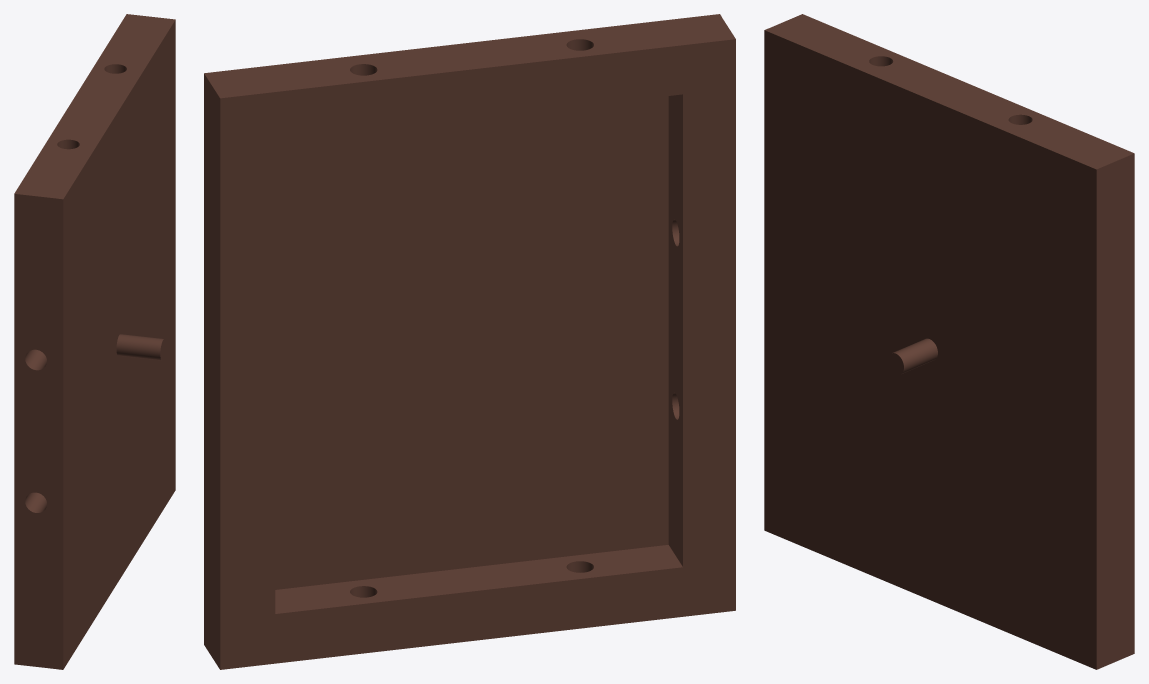
File: original-17.obj
3 views of the same model, side by side, from view 1: azimuth 30°, elevation 25°; view 2: azimuth 150°, elevation 25°; view 3: azimuth 270°, elevation 25° (orthographic). The views are drawn at different scales.
Visible parts, largest first — view 1: _6mmdoorback1/_6mmdoorback/mesh8/mesh8-geometry#mesh8-geometry; view 2: _6mmdoorback1/_6mmdoorback/mesh8/mesh8-geometry#mesh8-geometry; view 3: _6mmdoorback1/_6mmdoorback/mesh8/mesh8-geometry#mesh8-geometry.
Boxes of the visible parts, x1,y1,x2,y2 form: _6mmdoorback1/_6mmdoorback/mesh8/mesh8-geometry#mesh8-geometry: (14, 14, 175, 669); _6mmdoorback1/_6mmdoorback/mesh8/mesh8-geometry#mesh8-geometry: (204, 14, 735, 669); _6mmdoorback1/_6mmdoorback/mesh8/mesh8-geometry#mesh8-geometry: (764, 14, 1134, 669).
Size of the model in its own units: 0.5362 by 0.8044 by 0.5394.
